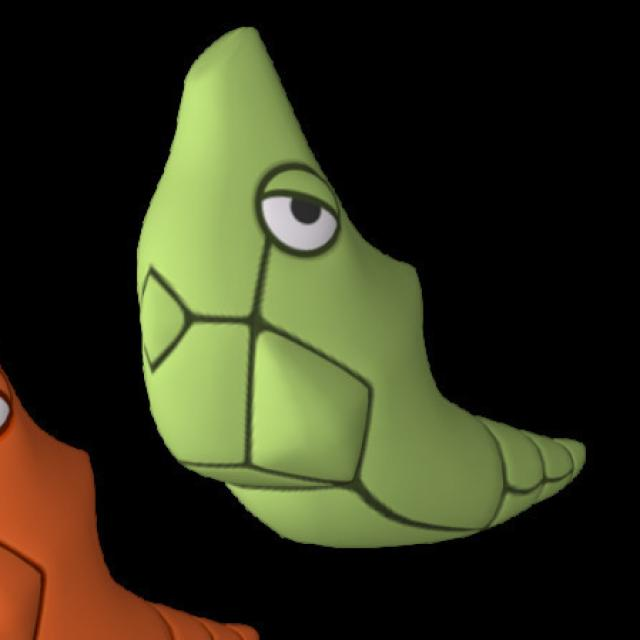Metapod: (116, 29, 587, 550)
